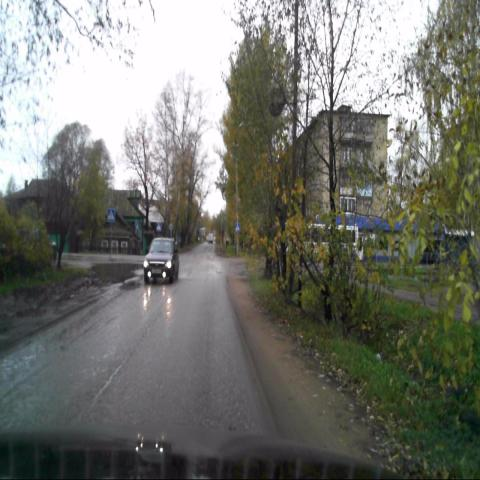5_19_1: (106, 209, 114, 222)
